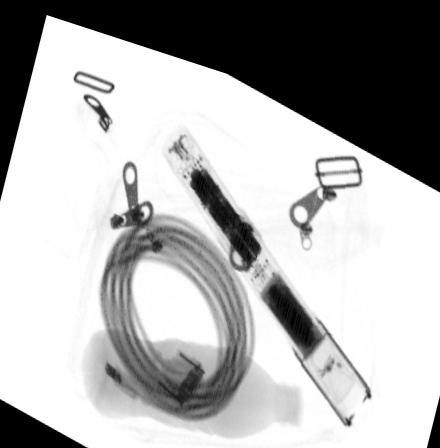Baton: (159, 111, 374, 407)
